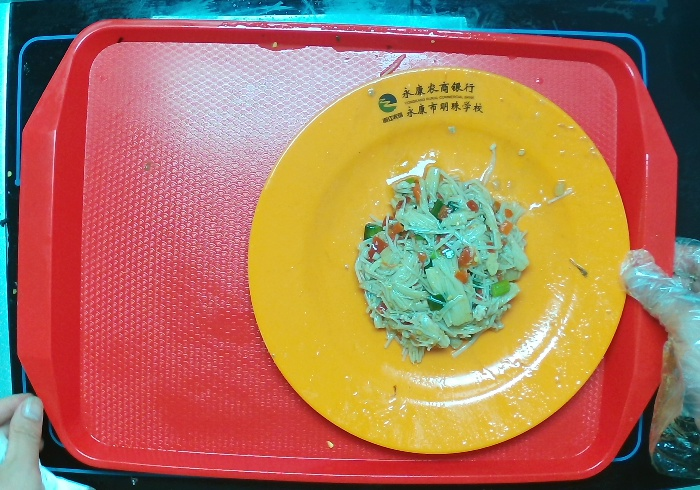YKMZ-Ju_Se_Mian_Pan: (234, 60, 642, 459)
